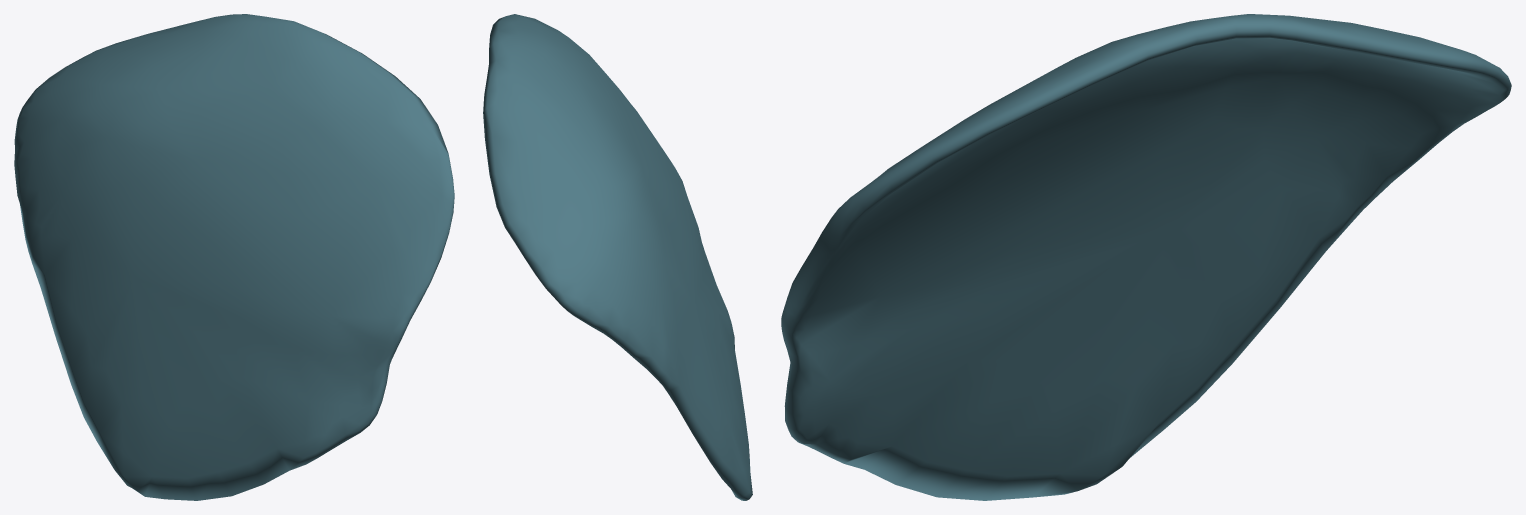
The model's file is Supraspinatus_muscle-Humeral_insertion.r_Generated_Mesh_From_X3.glb.
3 views of the same model, side by side, from view 1: azimuth 30°, elevation 25°; view 2: azimuth 150°, elevation 25°; view 3: azimuth 270°, elevation 25° (orthographic). The views are drawn at different scales.
Visible parts, largest first — view 1: Supraspinatus_muscle-Humeral_insertion.r_Generated_Mesh_From; view 2: Supraspinatus_muscle-Humeral_insertion.r_Generated_Mesh_From; view 3: Supraspinatus_muscle-Humeral_insertion.r_Generated_Mesh_From.
Boxes of the visible parts, <box> form: Supraspinatus_muscle-Humeral_insertion.r_Generated_Mesh_From: <box>14,14,454,500</box>; Supraspinatus_muscle-Humeral_insertion.r_Generated_Mesh_From: <box>483,14,752,500</box>; Supraspinatus_muscle-Humeral_insertion.r_Generated_Mesh_From: <box>781,14,1511,500</box>.
Bounding box in the file's own units: 0.0107 × 0.0151 × 0.0165.
